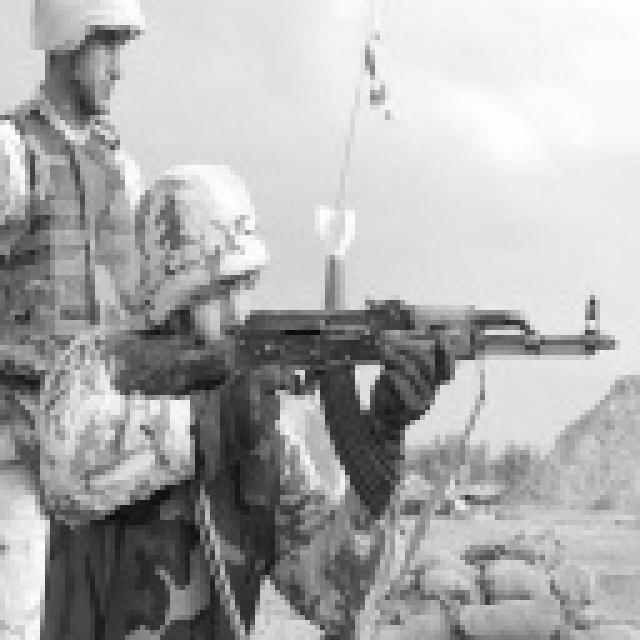Rifle: (201, 273, 640, 544)
